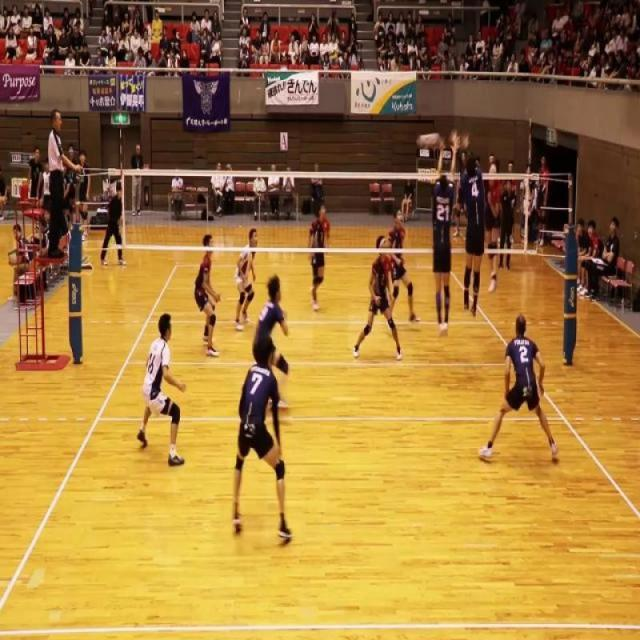volleyball: (416, 132, 442, 151)
